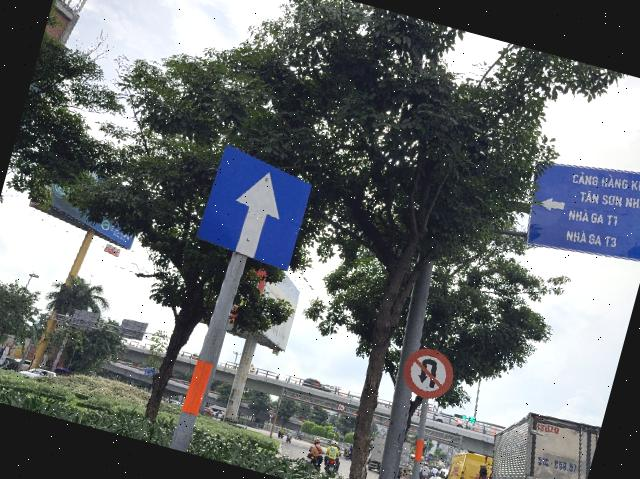cam-quay-dau-xe: (398, 343, 460, 404)
duong-mot-chieu: (192, 142, 316, 272)
